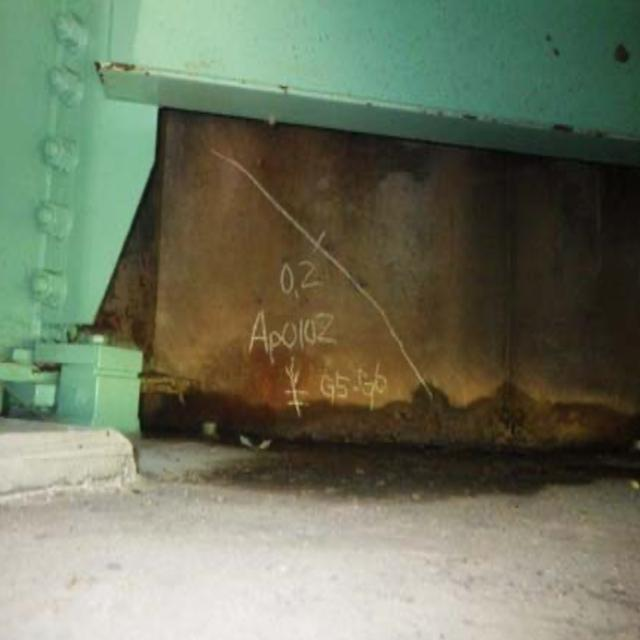leakage: (153, 369, 634, 510)
